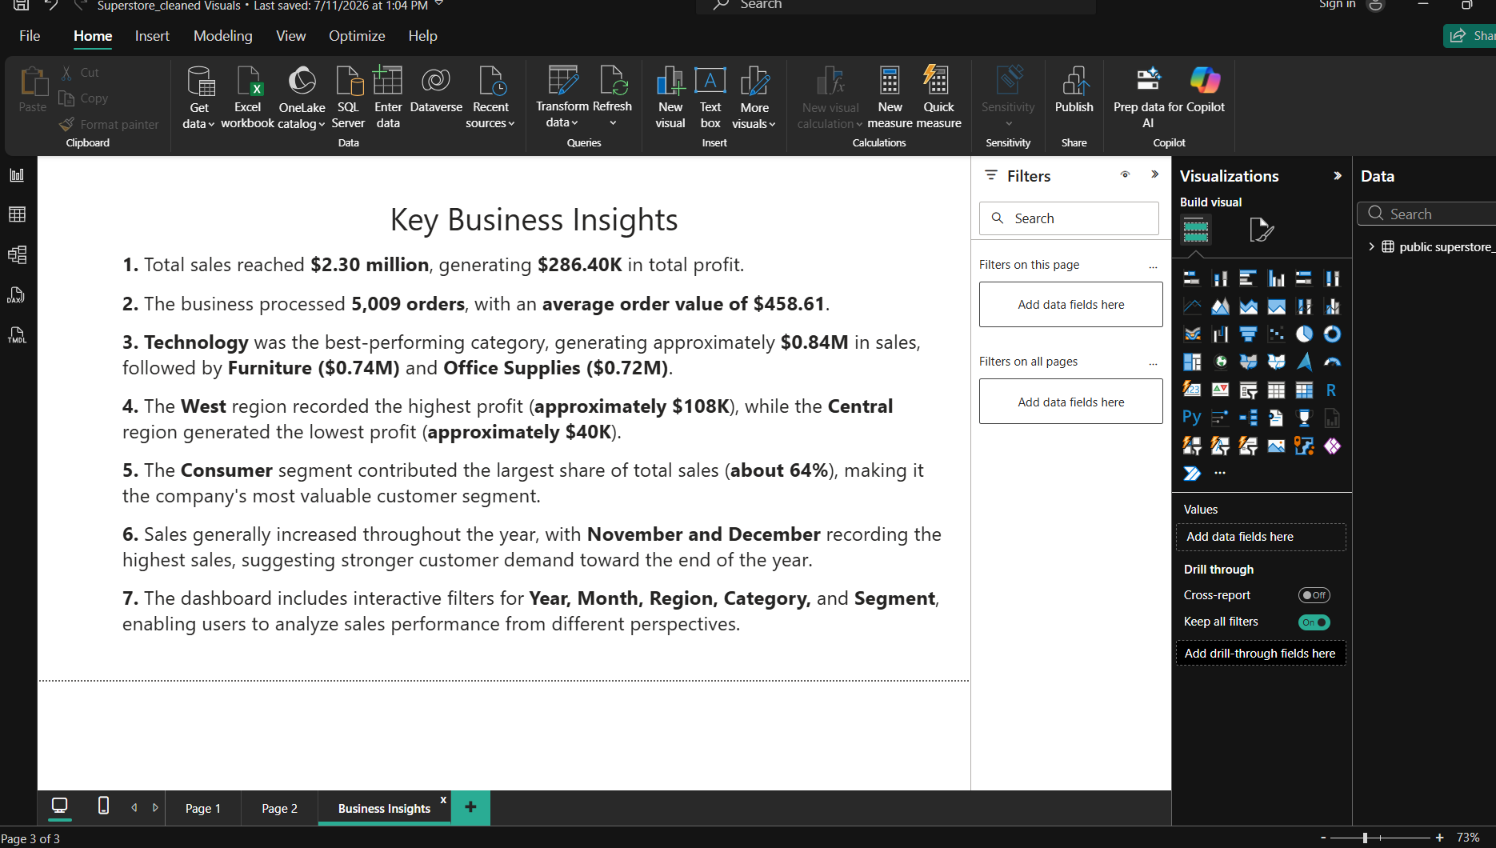

This screenshot's page, from the dashboard's own definition file:
{"tool":"powerbi","page":{"name":"Business Insights","canvas":[1280,720],"ordinal":2},"visuals":[{"type":"textbox","box":[111.1,32.9,1140.3,669.6],"z":0}]}

Visuals, with their boxes on the page's 1280x720 design canvas (x1, y1, x2, y2). These are canvas units, not pixel positions in the 1496x848 screenshot, which may show the page scaled, cropped or inside an application window:
textbox: region(111, 33, 1251, 702)
